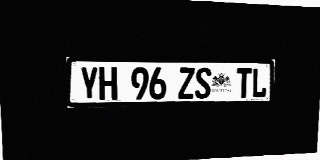6: (149, 67, 166, 99)
9: (131, 67, 149, 100)
H: (99, 67, 117, 100)
L: (251, 68, 267, 98)
S: (195, 68, 211, 99)
T: (236, 68, 252, 98)
Y: (79, 67, 98, 100)
Z: (178, 67, 195, 99)
